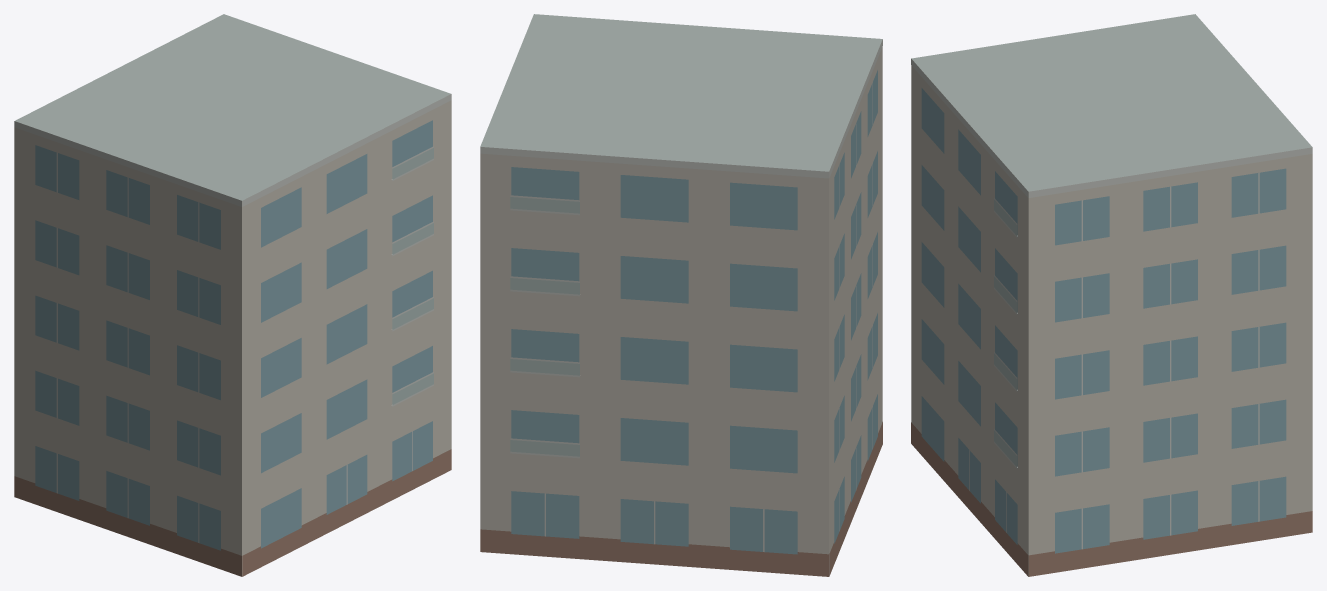
The model's file is survey-upis-32523635.glb.
3 renders of one model, left to right at view 1: azimuth 30°, elevation 25°; view 2: azimuth 150°, elevation 25°; view 3: azimuth 270°, elevation 25°, orthographic. The views are drawn at different scales.
Visible parts, largest first — view 1: survey-upis-32523635.tmp; view 2: survey-upis-32523635.tmp; view 3: survey-upis-32523635.tmp.
Part boxes in pixels (<box>): survey-upis-32523635.tmp: <box>14,14,451,576</box>; survey-upis-32523635.tmp: <box>480,14,882,576</box>; survey-upis-32523635.tmp: <box>911,14,1312,576</box>.
Bounding box in the file's own units: 14.46 × 14.6 × 13.8.
